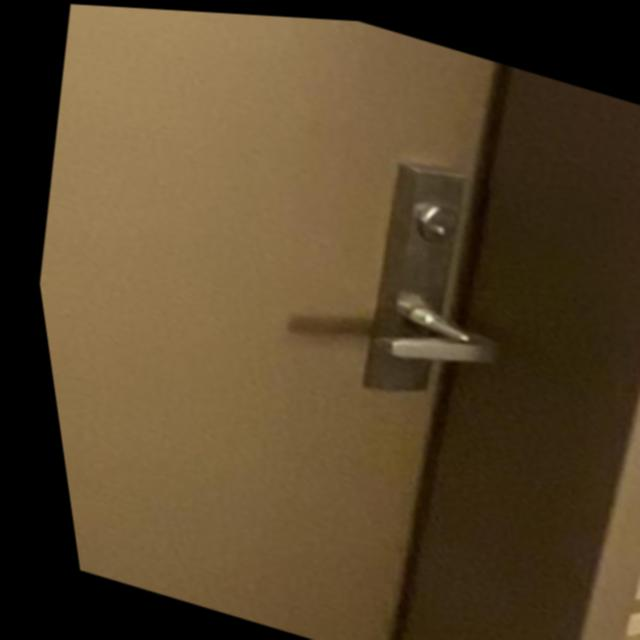door_handle: (330, 264, 527, 401)
